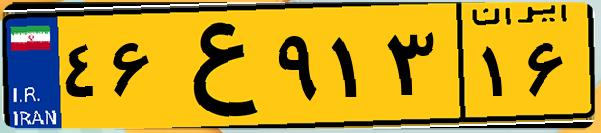1: (330, 28, 385, 110), (475, 38, 525, 113)
3: (385, 28, 445, 110)
4: (57, 26, 110, 100)
6: (525, 38, 570, 115), (110, 28, 158, 98)
9: (270, 28, 330, 110)
ع: (158, 12, 270, 120)
